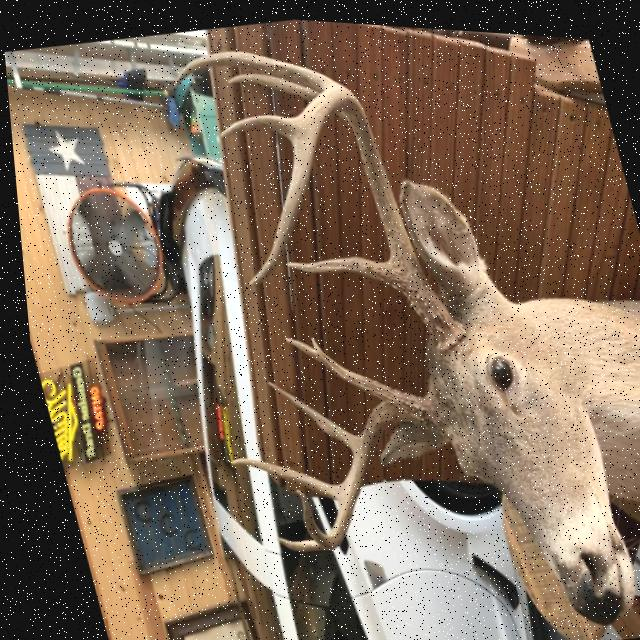E1: (304, 333, 320, 351)
E2: (265, 534, 313, 548)
L-F: (286, 387, 432, 546)
L-G1: (277, 334, 397, 406)
L-G2: (259, 378, 351, 448)
L-G3: (222, 454, 332, 497)
R-F: (241, 80, 458, 346)
R-G1: (280, 252, 396, 287)
R-G3: (171, 47, 340, 89)
R-G4: (216, 111, 294, 140)
